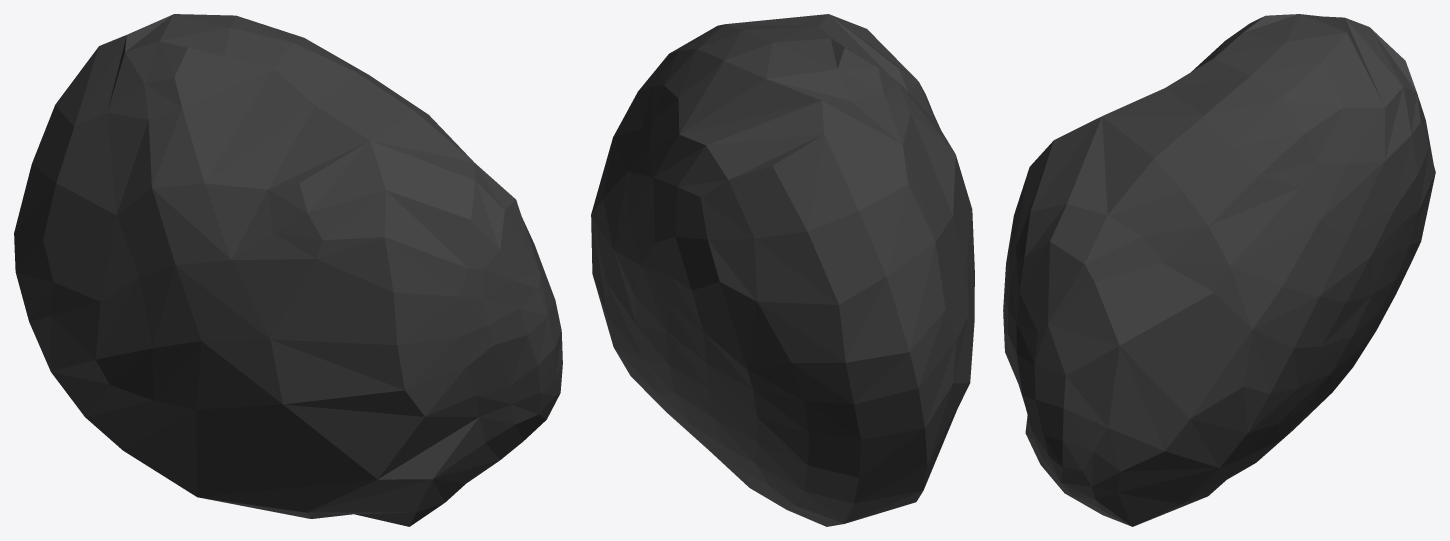
Rendered from C_accessory_bone_C_accessory_bone.glb.
3 views of the same model, side by side, from view 1: azimuth 30°, elevation 25°; view 2: azimuth 150°, elevation 25°; view 3: azimuth 270°, elevation 25° (orthographic). The views are drawn at different scales.
Visible parts, largest first — view 1: C_accessory_bone_C_accessory_bone; view 2: C_accessory_bone_C_accessory_bone; view 3: C_accessory_bone_C_accessory_bone.
Part boxes in pixels (bbox=[...]): C_accessory_bone_C_accessory_bone: bbox=[14, 14, 562, 526]; C_accessory_bone_C_accessory_bone: bbox=[591, 14, 974, 526]; C_accessory_bone_C_accessory_bone: bbox=[1003, 14, 1435, 526].
Bounding box in the file's own units: 0.0323 × 0.0345 × 0.0314.
Materials: 1 (1 with a texture image).
